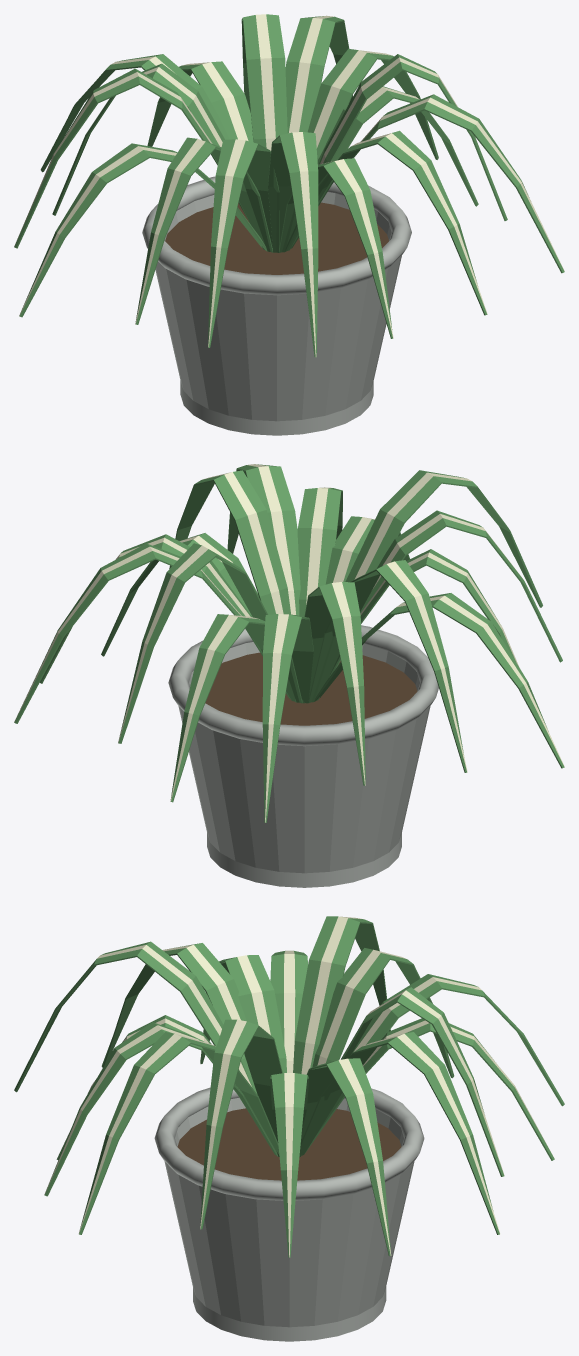
Rendered from houseplant_spider.glb.
3 renders of one model, top to bottom at view 1: azimuth 30°, elevation 25°; view 2: azimuth 150°, elevation 25°; view 3: azimuth 270°, elevation 25°, orthographic.
Visible parts, largest first — view 1: Spider_Plant_Open_Pot, Spider_Plant_Visible_Soil, Spider_Plant_Pot_Rim, Spider_Plant_Arching_Leaf_11, Spider_Plant_Arching_Leaf_10, Spider_Plant_Arching_Leaf_03, Spider_Plant_Arching_Leaf_02, Spider_Plant_Arching_Leaf_09, Spider_Plant_Arching_Leaf_12, Spider_Plant_Arching_Leaf_01, Spider_Plant_Arching_Leaf_13, Spider_Plant_Arching_Leaf_08 (+8 smaller); view 2: Spider_Plant_Open_Pot, Spider_Plant_Pot_Rim, Spider_Plant_Visible_Soil, Spider_Plant_Arching_Leaf_15, Spider_Plant_Arching_Leaf_05, Spider_Plant_Arching_Leaf_07, Spider_Plant_Arching_Leaf_06, Spider_Plant_Arching_Leaf_11, Spider_Plant_Arching_Leaf_04, Spider_Plant_Arching_Leaf_03, Spider_Plant_Arching_Leaf_13, Spider_Plant_Arching_Leaf_14 (+8 smaller); view 3: Spider_Plant_Open_Pot, Spider_Plant_Visible_Soil, Spider_Plant_Pot_Rim, Spider_Plant_Arching_Leaf_15, Spider_Plant_Arching_Leaf_07, Spider_Plant_Arching_Leaf_01, Spider_Plant_Arching_Leaf_14, Spider_Plant_Arching_Leaf_02, Spider_Plant_Arching_Leaf_06, Spider_Plant_Arching_Leaf_11, Spider_Plant_Arching_Leaf_00, Spider_Plant_Arching_Leaf_10 (+8 smaller).
Part boxes in pixels (x1,y1,x2,y2): Spider_Plant_Open_Pot: (155,192,401,421); Spider_Plant_Visible_Soil: (165,202,388,274); Spider_Plant_Pot_Rim: (142,176,411,295); Spider_Plant_Arching_Leaf_11: (268,132,318,357); Spider_Plant_Arching_Leaf_10: (208,139,279,347); Spider_Plant_Arching_Leaf_03: (241,14,287,150); Spider_Plant_Arching_Leaf_02: (285,15,352,133); Spider_Plant_Arching_Leaf_09: (135,137,272,324); Spider_Plant_Arching_Leaf_12: (279,158,393,338); Spider_Plant_Arching_Leaf_01: (307,48,438,159); Spider_Plant_Arching_Leaf_13: (285,130,487,315); Spider_Plant_Arching_Leaf_08: (19,143,267,317); Spider_Plant_Open_Pot: (178,642,430,873); Spider_Plant_Pot_Rim: (168,625,438,746); Spider_Plant_Visible_Soil: (205,652,417,725); Spider_Plant_Arching_Leaf_15: (169,470,290,614); Spider_Plant_Arching_Leaf_05: (262,614,313,822); Spider_Plant_Arching_Leaf_07: (308,560,467,772); Spider_Plant_Arching_Leaf_06: (302,582,365,785); Spider_Plant_Arching_Leaf_11: (345,470,542,607); Spider_Plant_Arching_Leaf_04: (170,614,302,802); Spider_Plant_Arching_Leaf_03: (118,543,296,743); Spider_Plant_Arching_Leaf_13: (297,487,342,616); Spider_Plant_Arching_Leaf_14: (227,464,300,615); Spider_Plant_Open_Pot: (164,1097,414,1327); Spider_Plant_Visible_Soil: (177,1108,401,1180); Spider_Plant_Pot_Rim: (154,1087,424,1200); Spider_Plant_Arching_Leaf_15: (200,1019,282,1229); Spider_Plant_Arching_Leaf_07: (293,916,390,1074); Spider_Plant_Arching_Leaf_01: (299,1058,391,1256); Spider_Plant_Arching_Leaf_14: (78,1032,279,1234); Spider_Plant_Arching_Leaf_02: (300,1032,500,1234); Spider_Plant_Arching_Leaf_06: (312,948,454,1078); Spider_Plant_Arching_Leaf_11: (14,941,252,1092); Spider_Plant_Arching_Leaf_00: (270,1073,308,1257); Spider_Plant_Arching_Leaf_10: (101,943,257,1094).
Size of the model in its own units: 0.7487 by 0.4997 by 0.7592.
